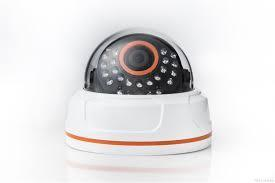maru: (59, 21, 218, 161)
